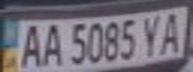0: (84, 19, 106, 64)
5: (118, 16, 142, 61), (66, 20, 87, 65)
8: (103, 18, 124, 62)
A: (15, 21, 45, 69), (157, 9, 187, 54), (39, 20, 66, 68)
Y: (136, 11, 166, 57)
